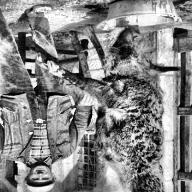boar: (89, 16, 191, 192)
